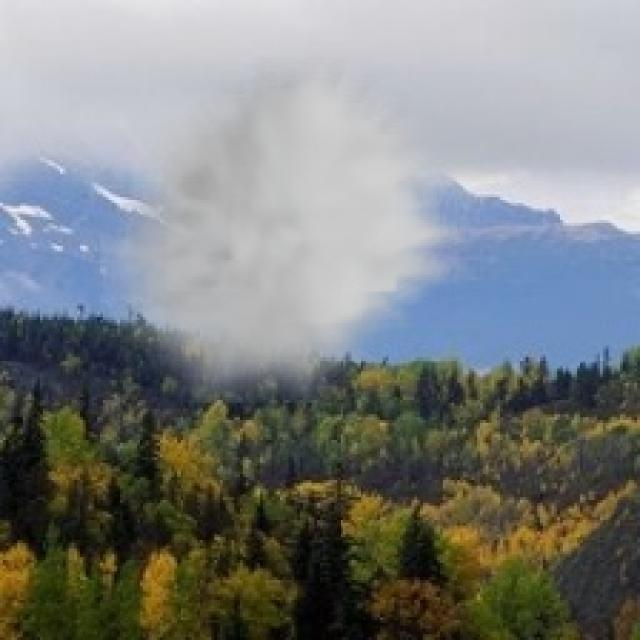smoke: (100, 57, 466, 403)
